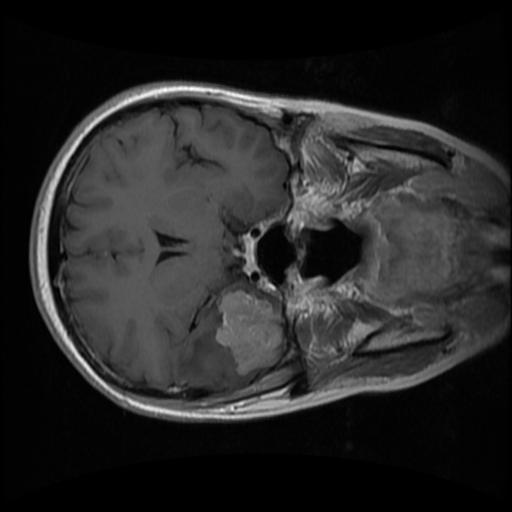meningioma: (214, 290, 285, 376)
